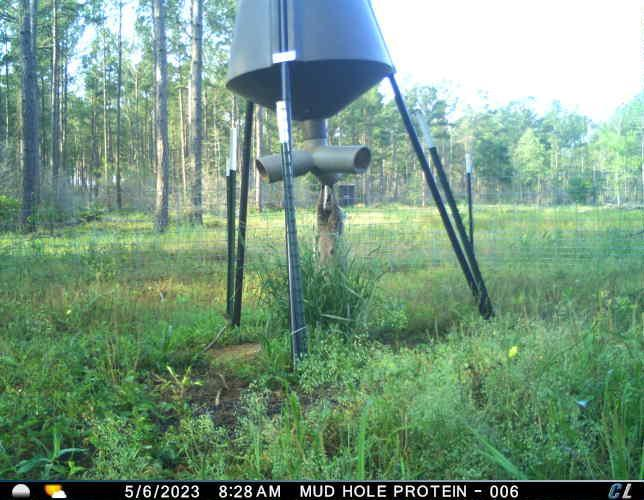Raccoon: (312, 182, 347, 264)
